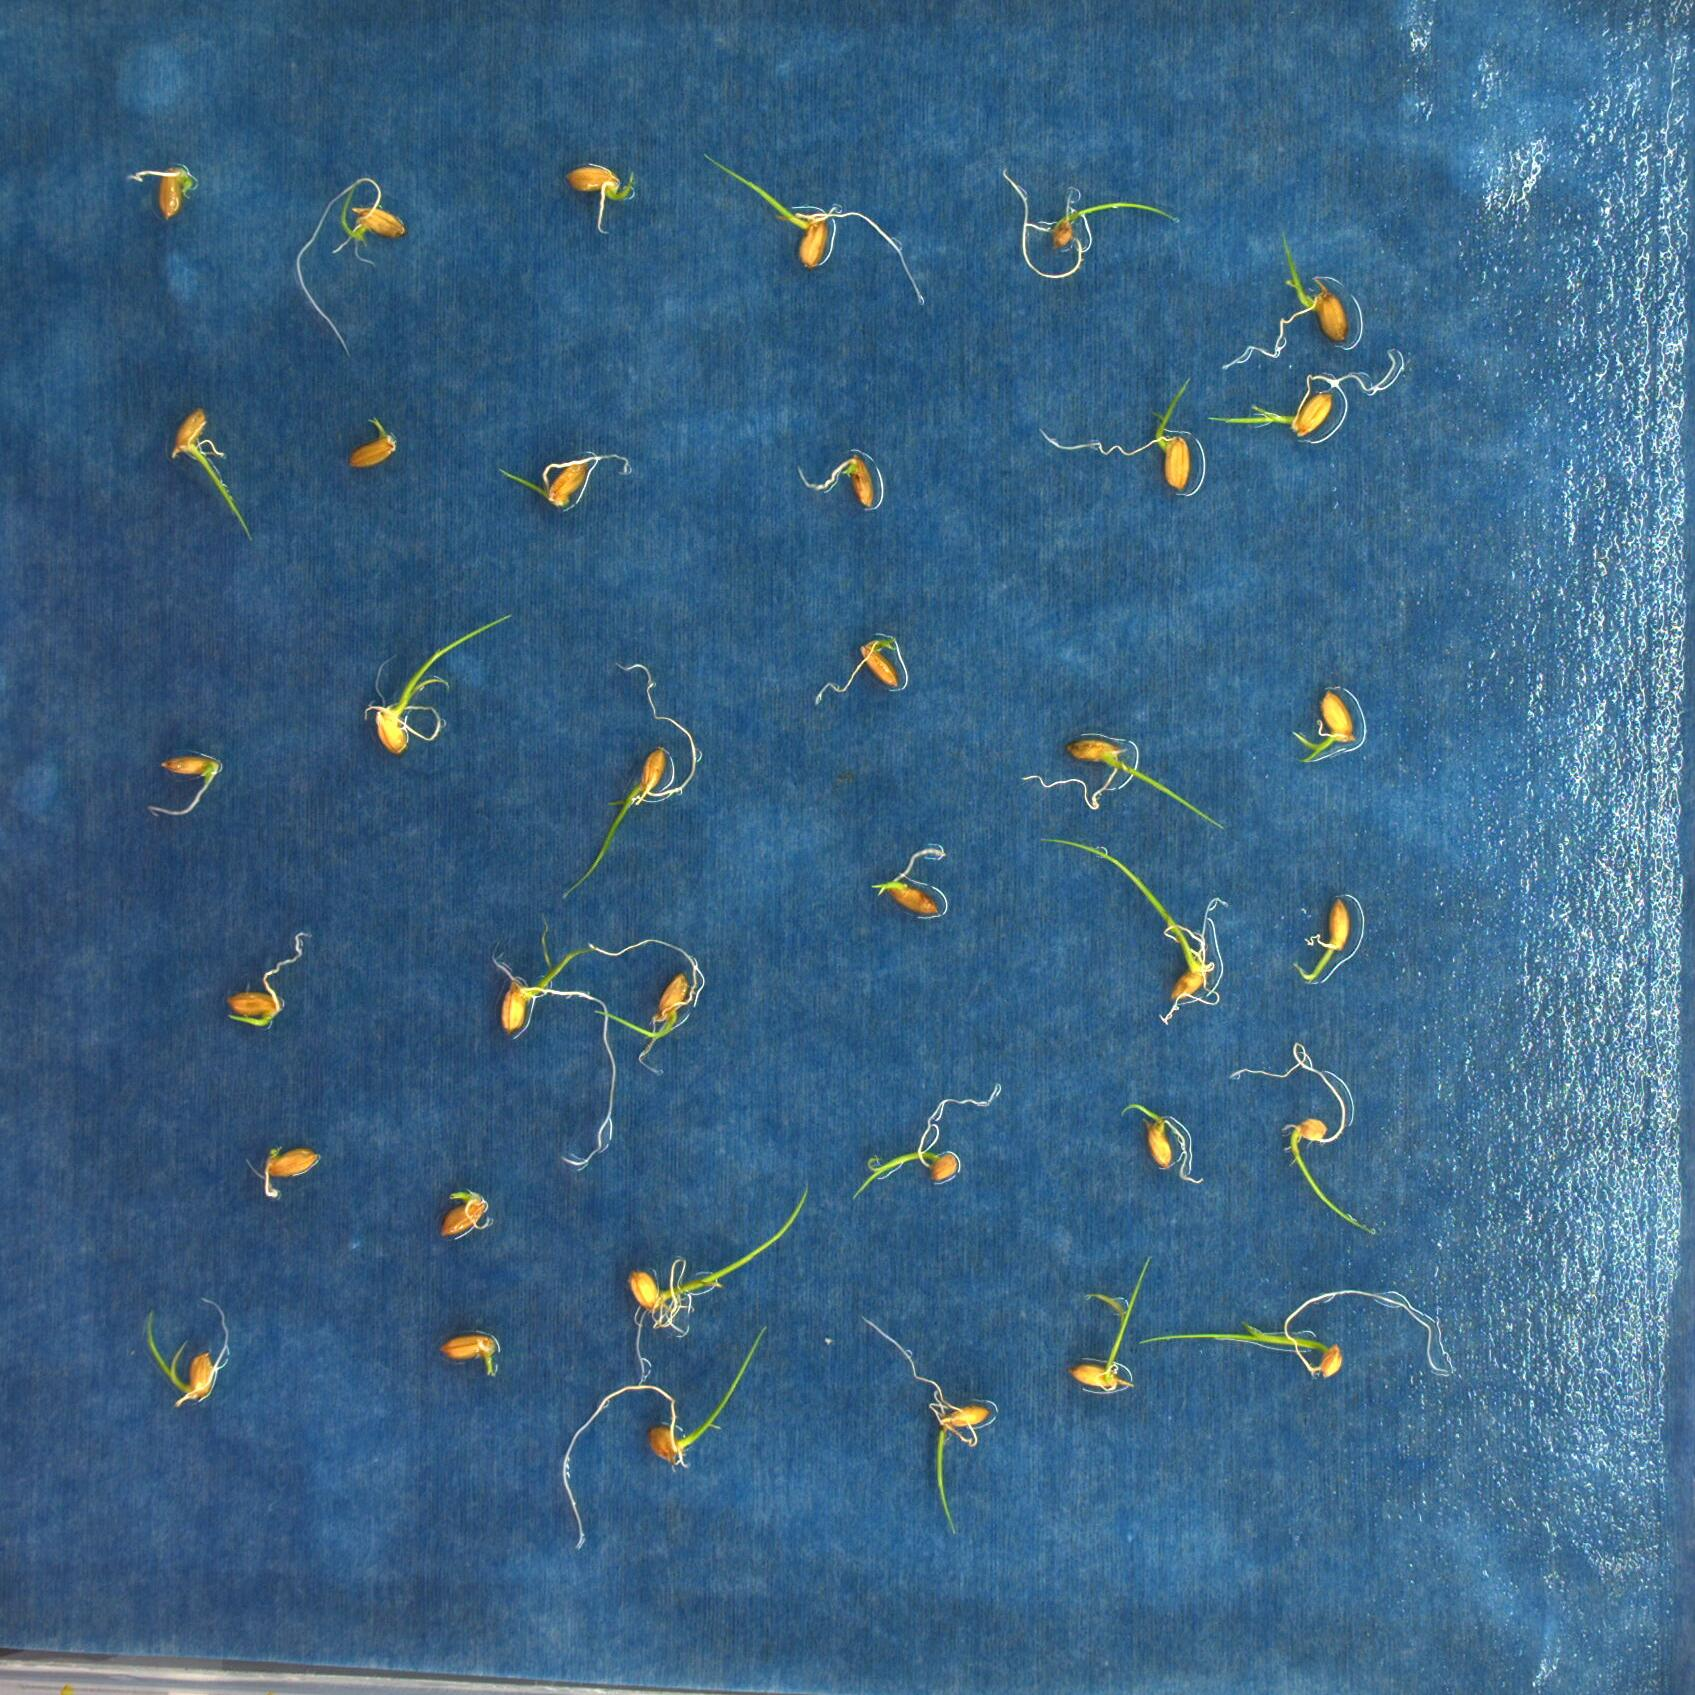not sprout: (809, 635, 900, 706), (147, 753, 225, 826), (245, 1149, 317, 1201), (439, 1333, 497, 1375)
sprout: (560, 1324, 773, 1555), (627, 1181, 810, 1385), (1038, 837, 1231, 1020), (705, 152, 927, 309), (563, 660, 700, 900), (492, 917, 615, 1166), (861, 1313, 993, 1537), (1229, 1042, 1375, 1236), (1141, 1291, 1451, 1380), (365, 608, 515, 754), (1007, 165, 1180, 279), (1018, 736, 1223, 832), (293, 177, 404, 355), (1222, 227, 1350, 373), (847, 1083, 1004, 1203), (1038, 376, 1192, 492), (588, 938, 708, 1076), (1069, 1256, 1156, 1395), (169, 408, 251, 543), (144, 1295, 228, 1405), (497, 449, 632, 508), (227, 928, 304, 1028), (1121, 1104, 1205, 1184), (1208, 388, 1335, 438), (869, 847, 948, 924), (563, 161, 636, 234), (1291, 689, 1360, 767), (795, 453, 877, 512), (1293, 900, 1350, 979), (129, 165, 196, 216), (348, 418, 397, 473), (438, 1189, 487, 1245)
